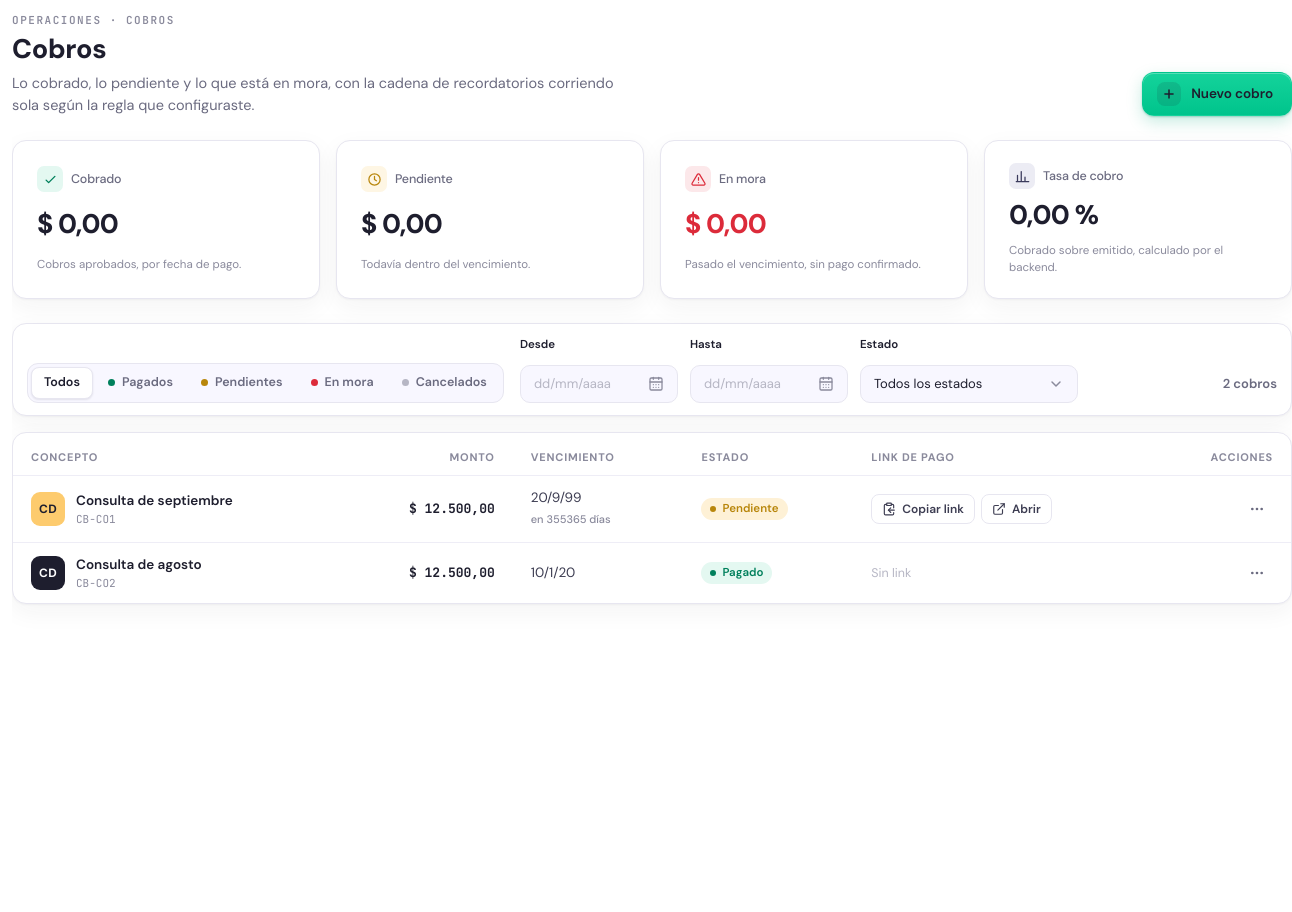
el listado de cobros — filtros y vacíos › sin resultados por un filtro dice la frase de la historia y ofrece limpiarlo
This screenshot has width=1292, height=912.
Click the button "En mora" at {"x": 342, "y": 383}, box [298,367,387,399]
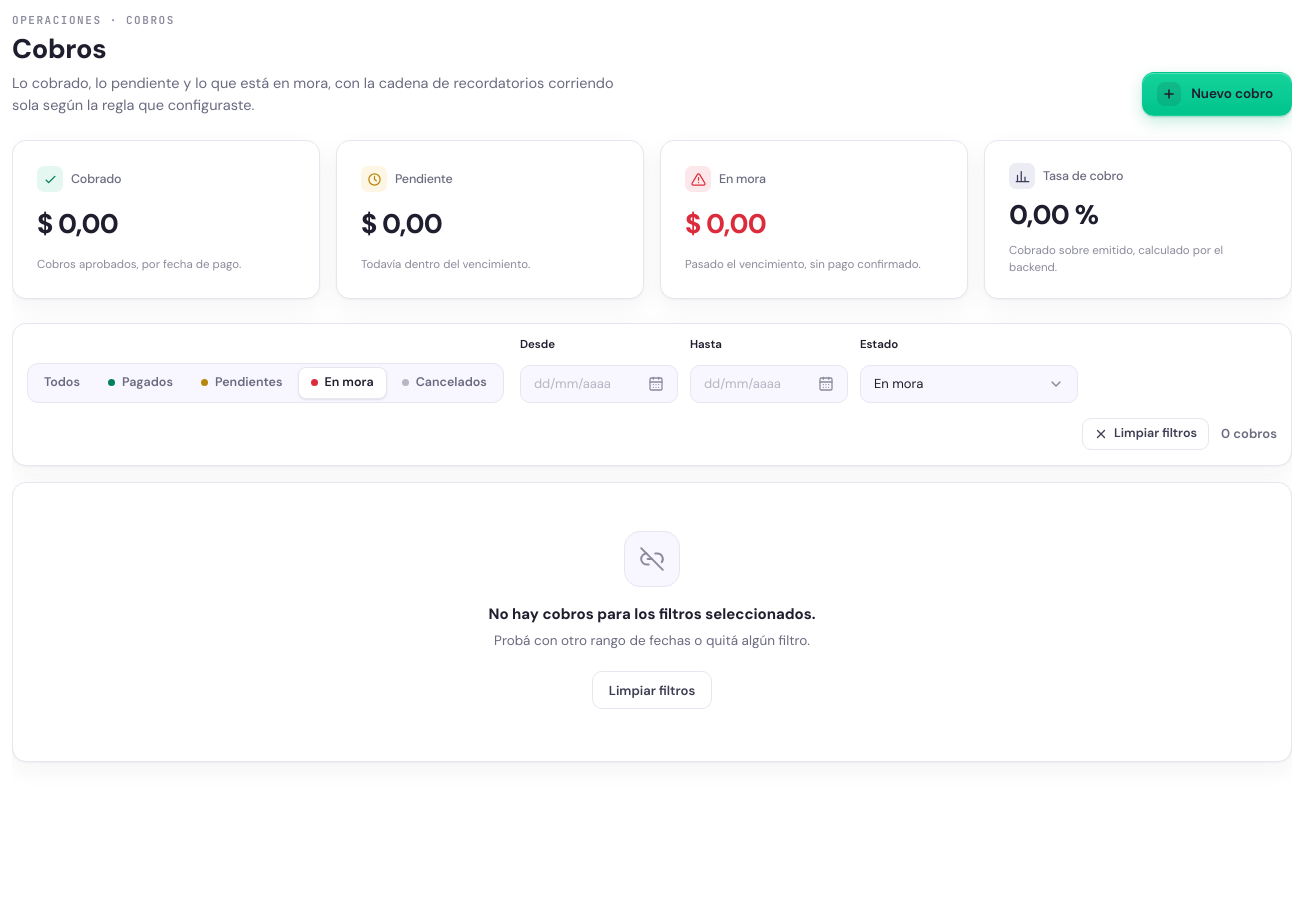
Expected: the number of links "Nuevo cobro" is 1, [1142,72,1291,116]
Expected: the text "No hay cobros para los filtros seleccionados." is shown, [488,603,816,625]
Expected: the number of buttons "Limpiar filtros" is 2, [1082,418,1209,450]; [592,671,712,709]
